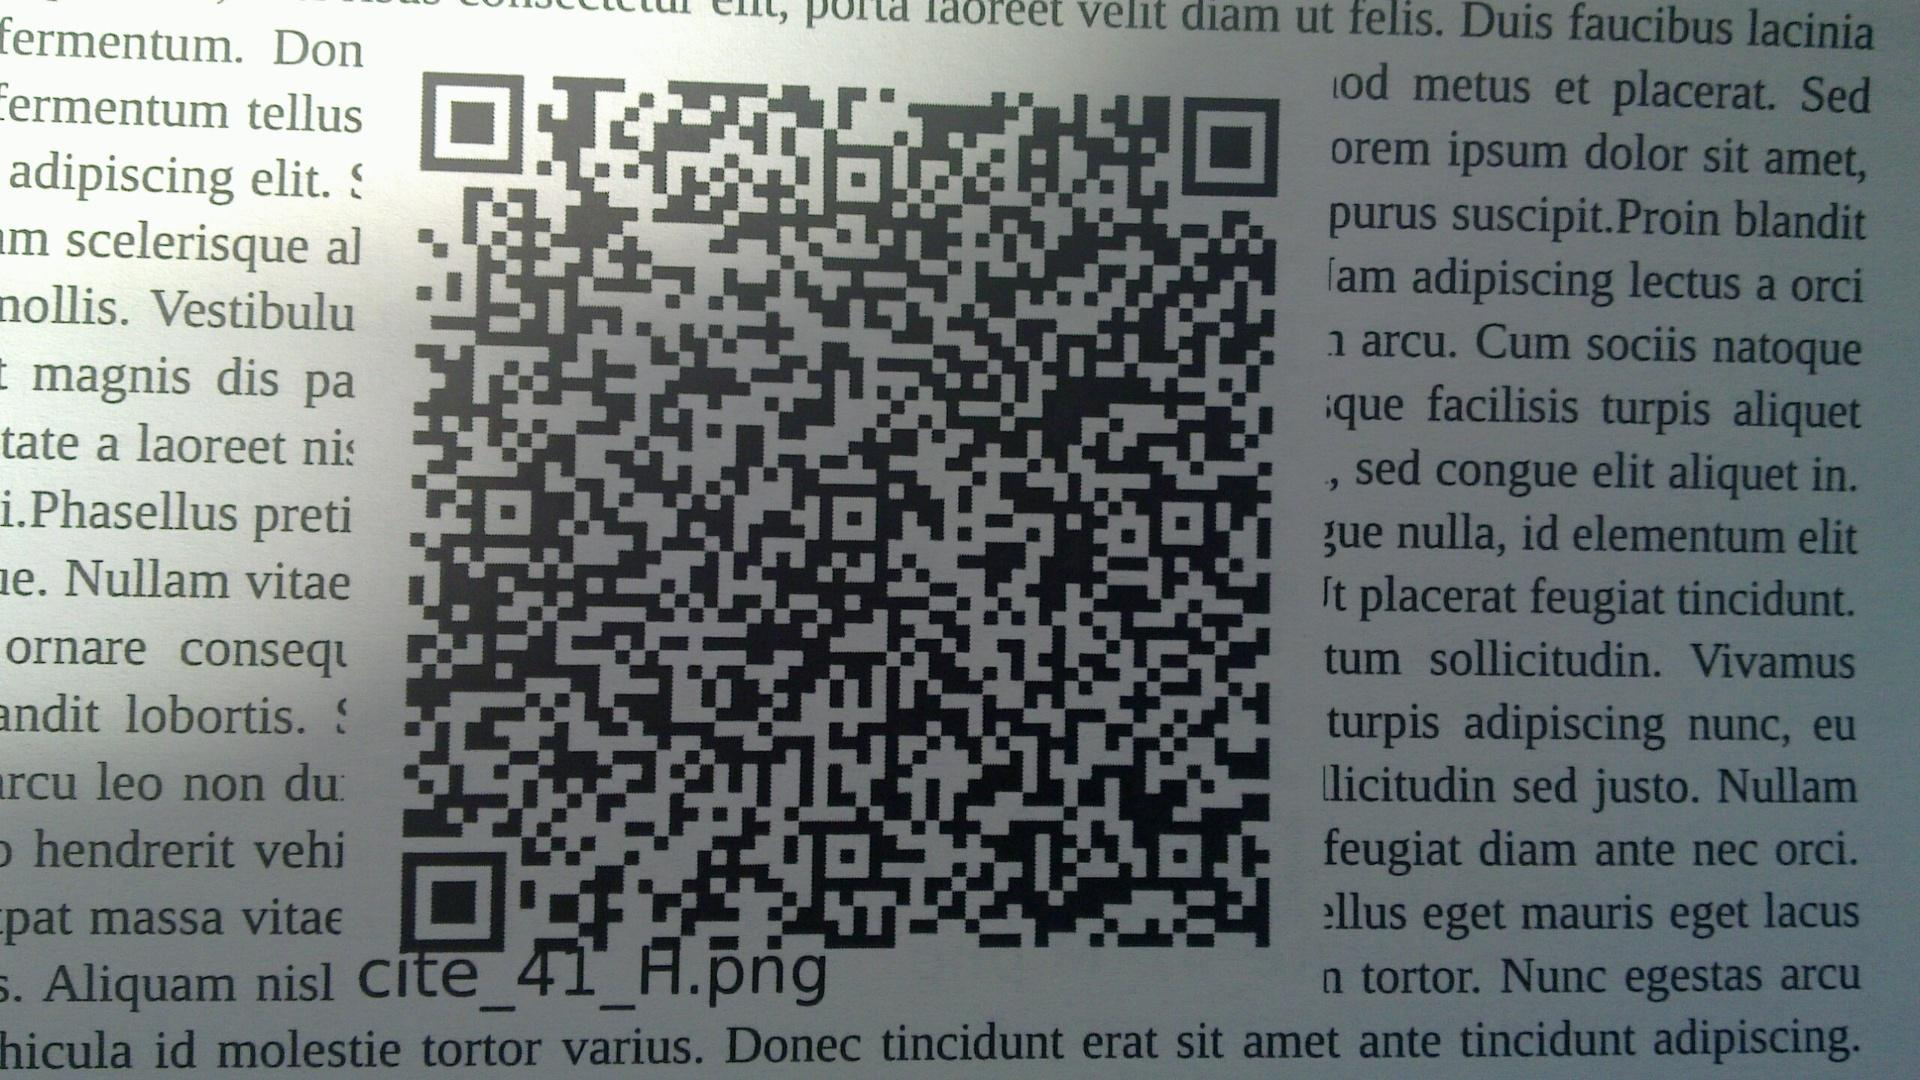Finder pattern: (384, 841, 520, 963), (409, 62, 531, 179), (1174, 86, 1288, 204)
